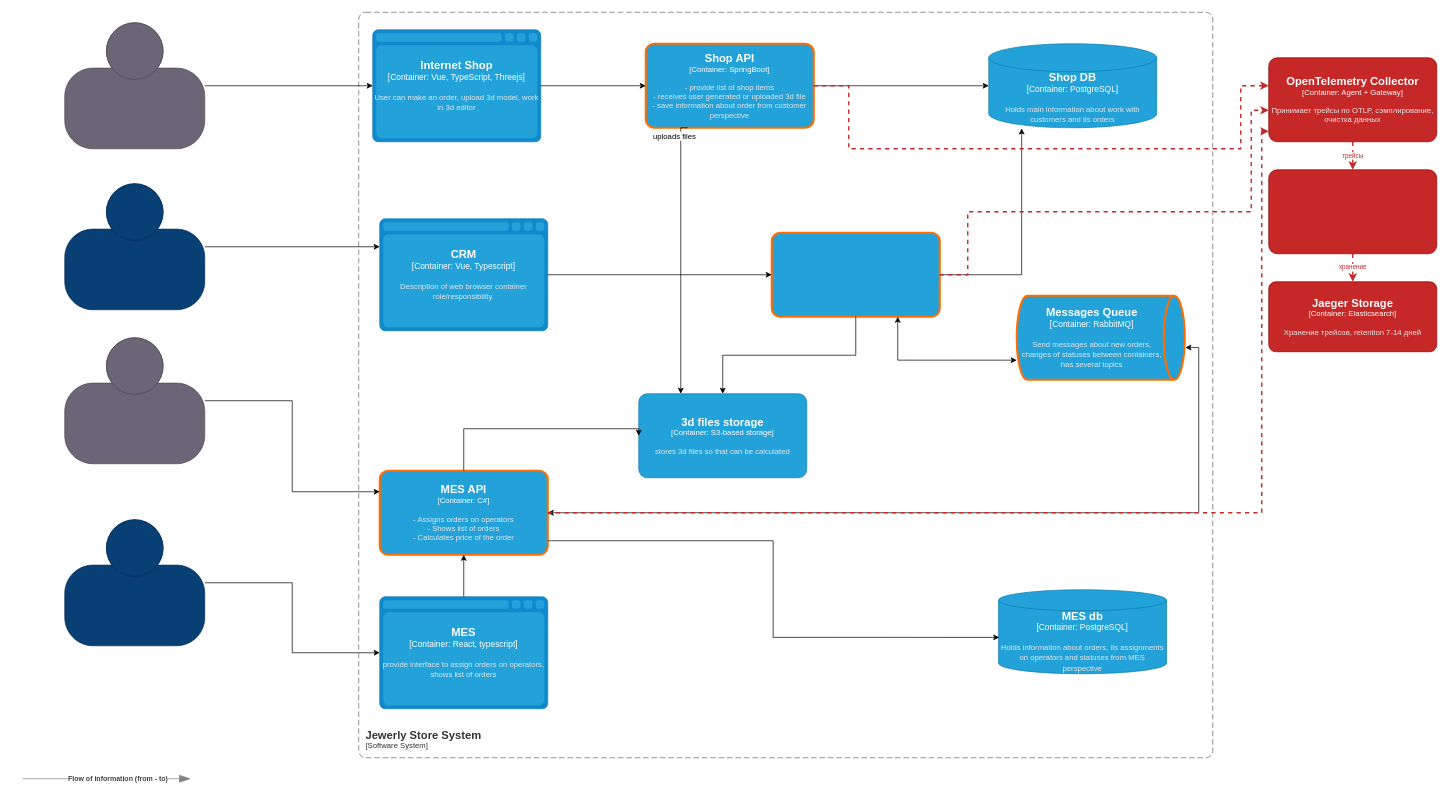
This 1449x802 diagram has some shape labels left out. Each missing label, with the centre of its shape:
"API user [Person] Description of external person." goes at point (134, 400).
"CRM API [Container: SpringBoot] Description of container role/responsibility." goes at point (855, 274).
"Customer [Person] Description of external person." goes at point (134, 85).
"Jaeger [Container: Tracing UI / Backend] Поиск, просмотр и разбор трейсов заказа" goes at point (1352, 211).
"Operator [Person] Takes order in work, manufactures jewerly" goes at point (134, 582).
"Seller [Person] Operates with order, confirms manufacturing for the user" goes at point (134, 246).
